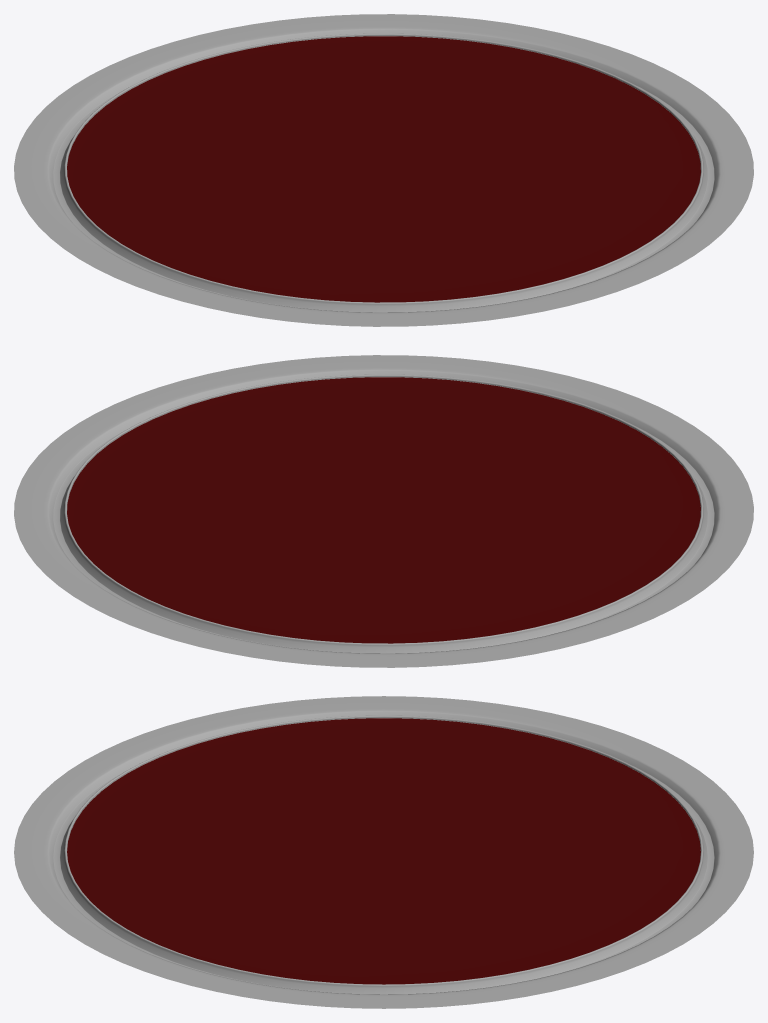
File: ArenaFloor.fbx
3 renders of one model, top to bottom at view 1: azimuth 30°, elevation 25°; view 2: azimuth 150°, elevation 25°; view 3: azimuth 270°, elevation 25°, orthographic.
Visible parts, largest first — view 1: Floor; view 2: Floor; view 3: Floor.
Boxes of the visible parts, bbox=[...] form: Floor: bbox=[14, 14, 753, 326]; Floor: bbox=[14, 355, 753, 667]; Floor: bbox=[14, 696, 753, 1008].
Bounding box in the file's own units: 4184 × 49.43 × 4184.
